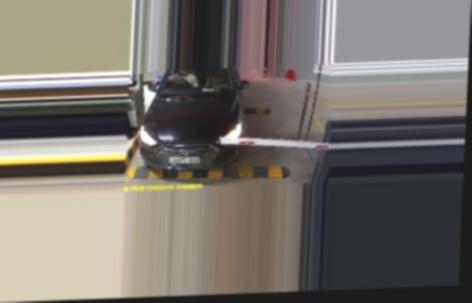License_Plate: (169, 154, 201, 164)
